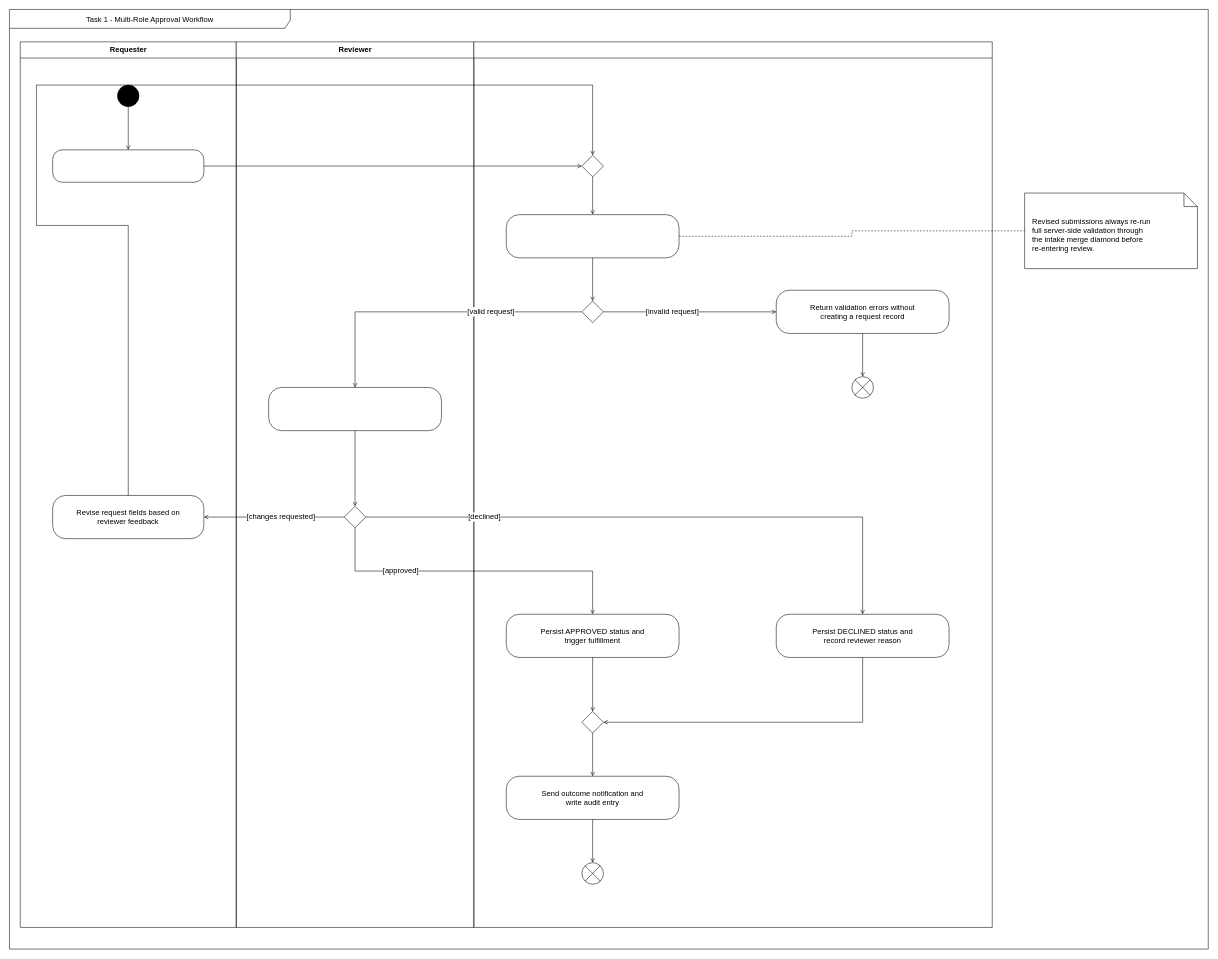
Image size: 1218x959. Some labels were removed from this diagram. The shapes that lost their labels are listed below. From the top down, each one's box as (x1, y1, x2, y2) in pixels, then its label:
(52, 149, 204, 182): Fill form and submit request
(506, 214, 679, 258): Validate permissions, schema and policy limits
(268, 387, 441, 431): Inspect submitted request and choose decision
(473, 41, 992, 927): System
